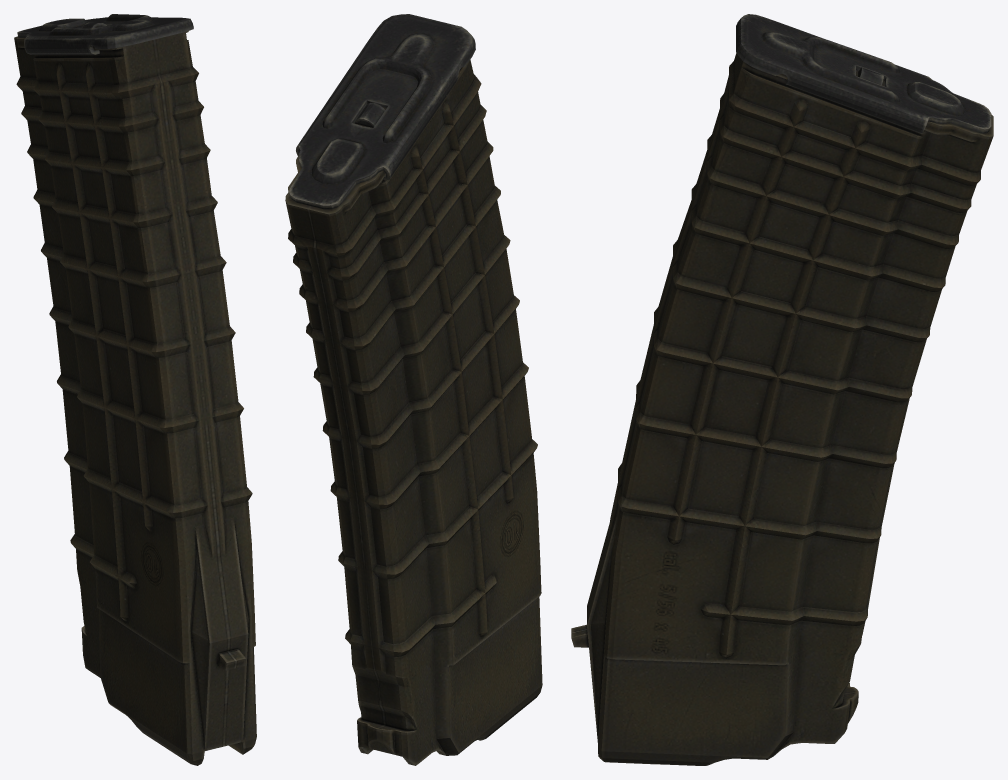
3 views of the same model, side by side, from view 1: azimuth 30°, elevation 25°; view 2: azimuth 150°, elevation 25°; view 3: azimuth 270°, elevation 25° (orthographic). The views are drawn at different scales.
Visible parts, largest first — view 1: TW_5c0548ae0db834001966a3c2_PZ_Import; view 2: TW_5c0548ae0db834001966a3c2_PZ_Import; view 3: TW_5c0548ae0db834001966a3c2_PZ_Import.
Boxes of the visible parts, bbox=[...] form: TW_5c0548ae0db834001966a3c2_PZ_Import: bbox=[14, 14, 256, 765]; TW_5c0548ae0db834001966a3c2_PZ_Import: bbox=[285, 14, 542, 765]; TW_5c0548ae0db834001966a3c2_PZ_Import: bbox=[571, 14, 993, 765].
Size of the model in its own units: 0.0162 by 0.0638 by 0.1206.
Materials: 1 (1 with a texture image).
